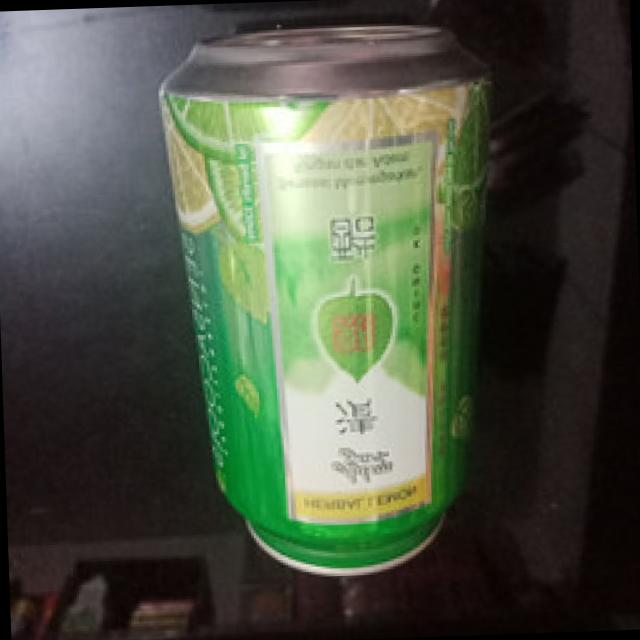ademsarikaleng: (153, 14, 516, 587)
